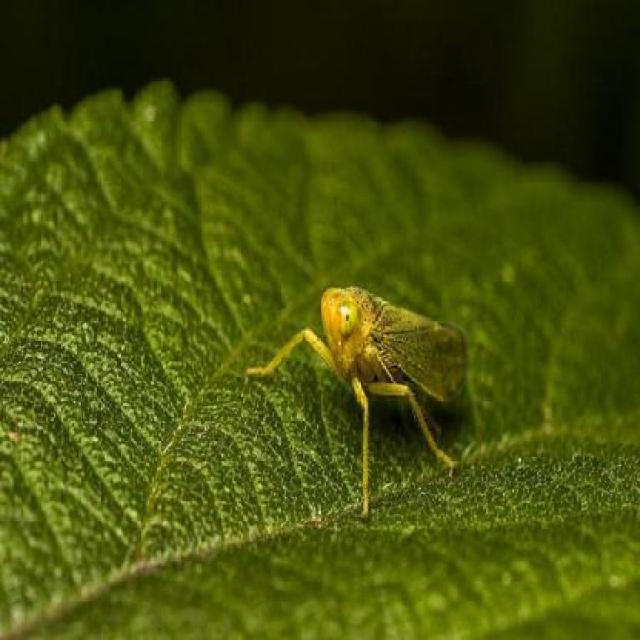green-leafhopper: (247, 285, 473, 517)
